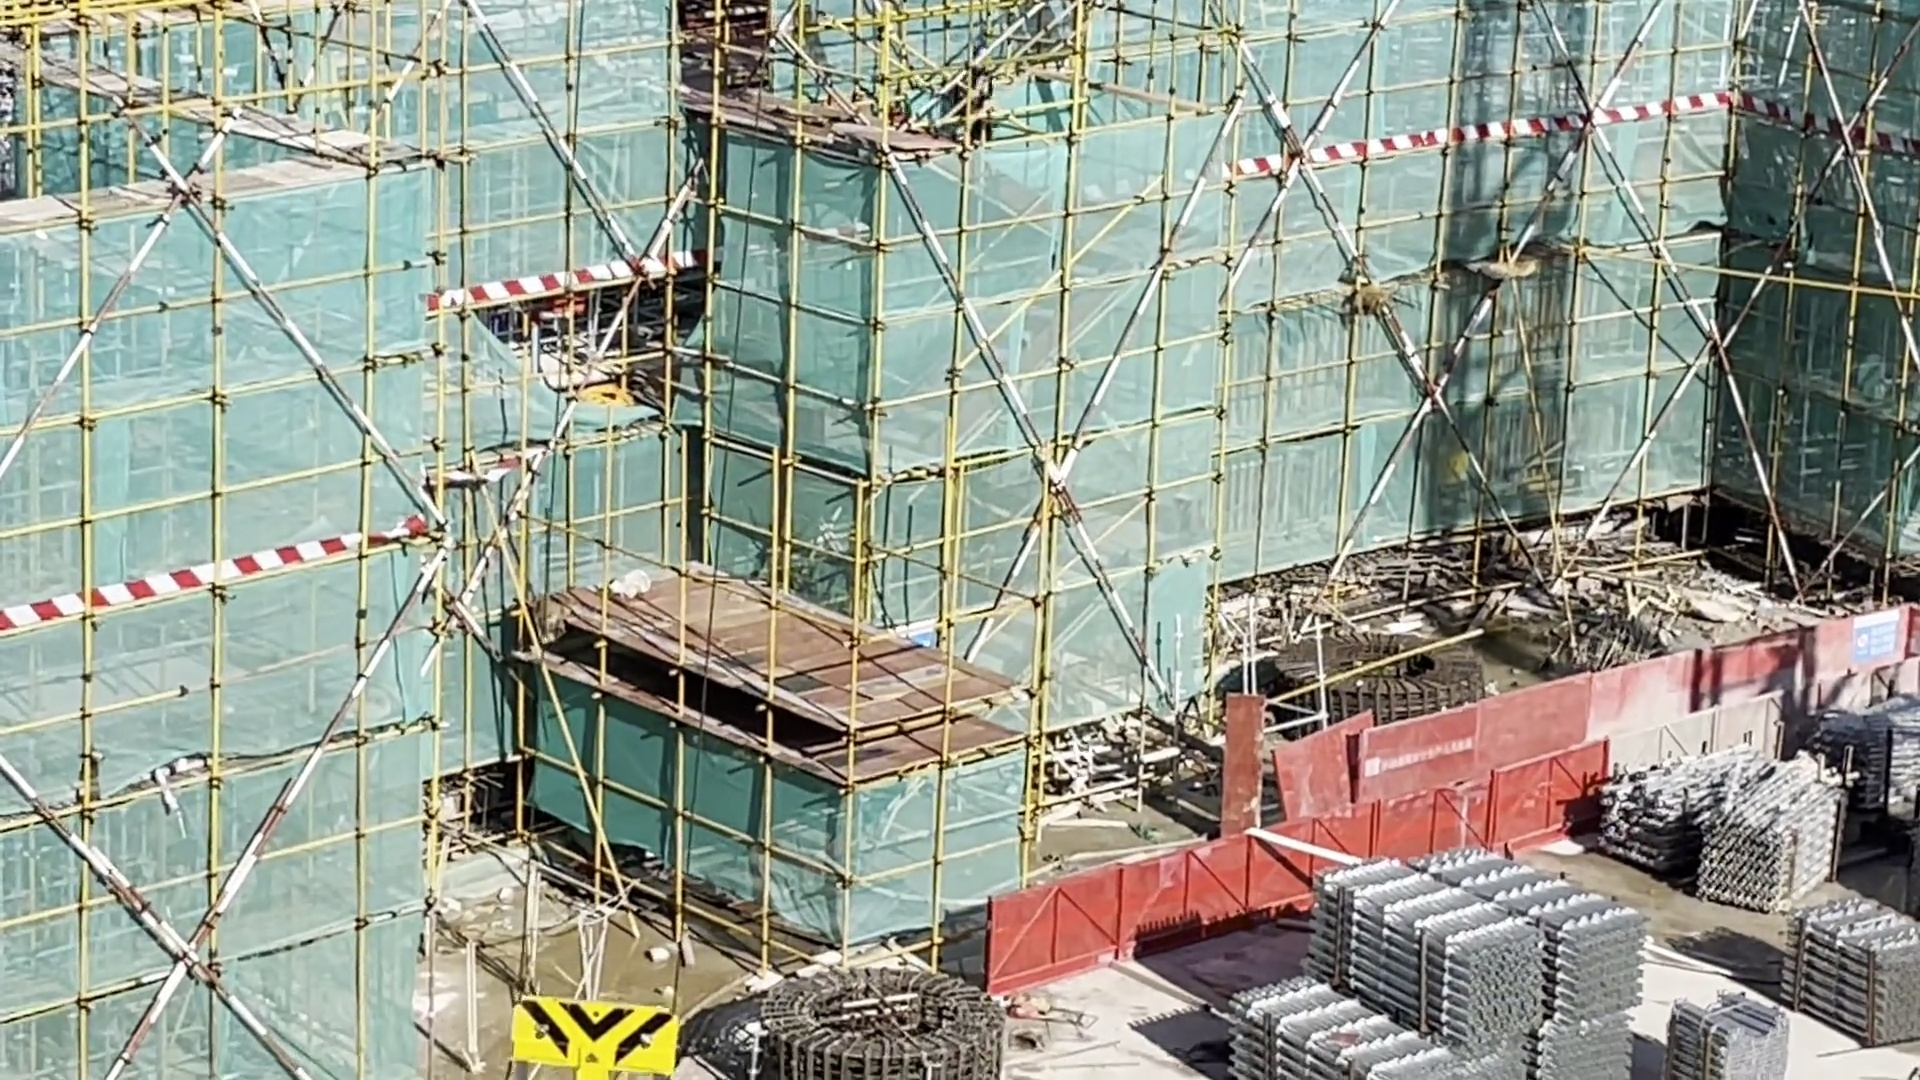fence: (989, 655, 1920, 1002)
hook: (498, 984, 721, 1080)
scaffold: (1226, 843, 1644, 1080), (1592, 750, 1842, 905), (1771, 894, 1920, 1054), (1662, 993, 1797, 1080)
